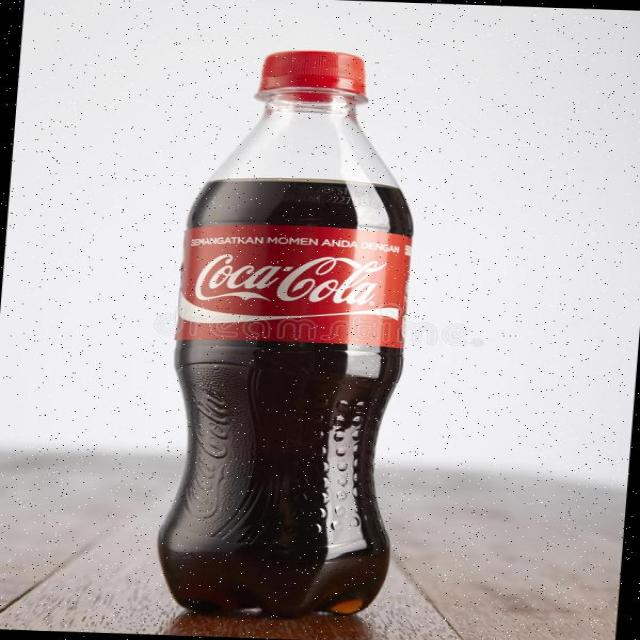coca-cola: (121, 36, 450, 625)
